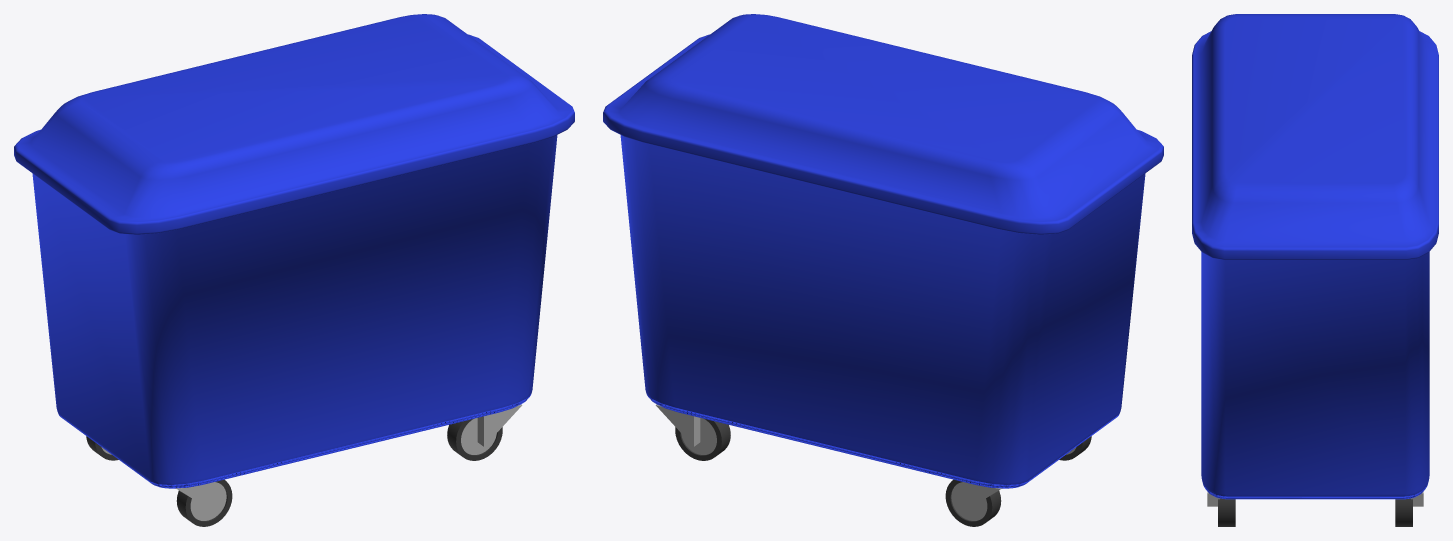
Rendered from contenedor azul.glb.
3 renders of one model, left to right at view 1: azimuth 30°, elevation 25°; view 2: azimuth 150°, elevation 25°; view 3: azimuth 270°, elevation 25°, orthographic. The views are drawn at different scales.
Parts seen in each view (by area): view 1: Cube; view 2: Cube; view 3: Cube.
Boxes of the visible parts, box(x1,y1,x2,y2) form: Cube: box(14, 14, 574, 526); Cube: box(603, 14, 1163, 526); Cube: box(1192, 14, 1438, 526).
Bounding box in the file's own units: 2.94 × 2.23 × 1.39.
